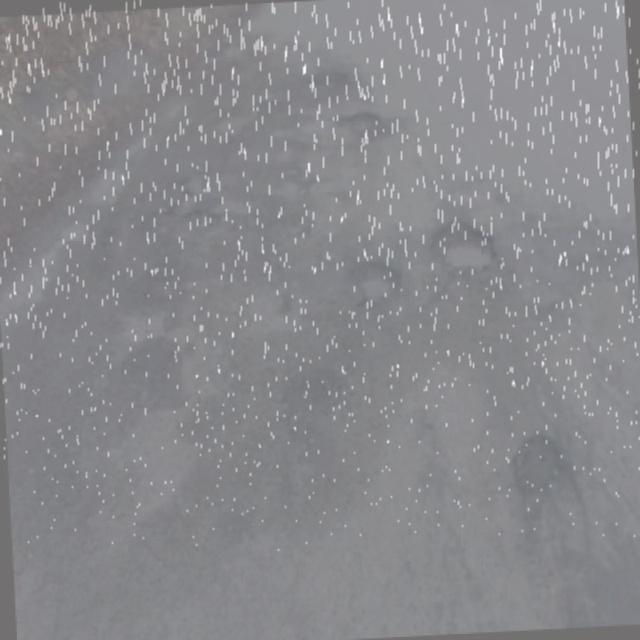Pothole: (68, 347, 221, 521), (495, 411, 612, 602), (167, 154, 326, 222), (437, 217, 516, 292), (347, 244, 404, 326), (343, 106, 418, 155)
